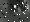person: (16, 7, 22, 16), (25, 5, 30, 15)
